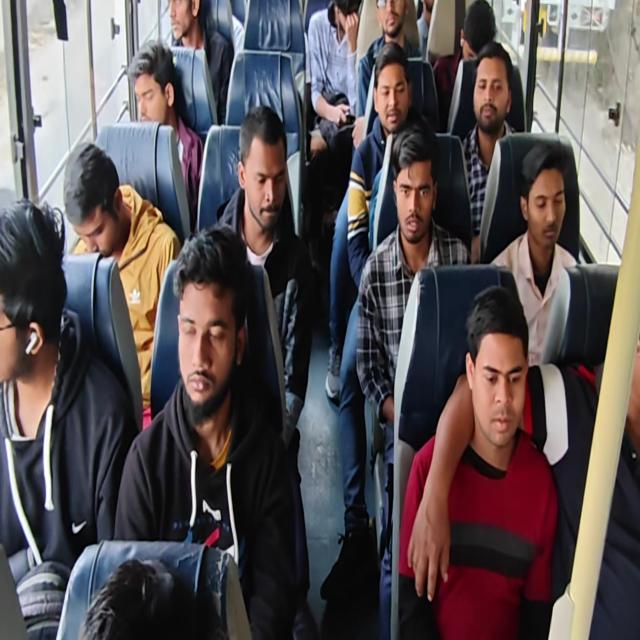person: (0, 205, 65, 389), (170, 246, 239, 419), (466, 293, 531, 453), (60, 137, 134, 256), (236, 114, 292, 233), (123, 51, 183, 148), (524, 165, 569, 261), (394, 152, 431, 236), (471, 59, 509, 134), (374, 59, 413, 130), (455, 5, 495, 71), (159, 0, 200, 42), (373, 0, 408, 48), (327, 0, 363, 43), (413, 0, 447, 29)
